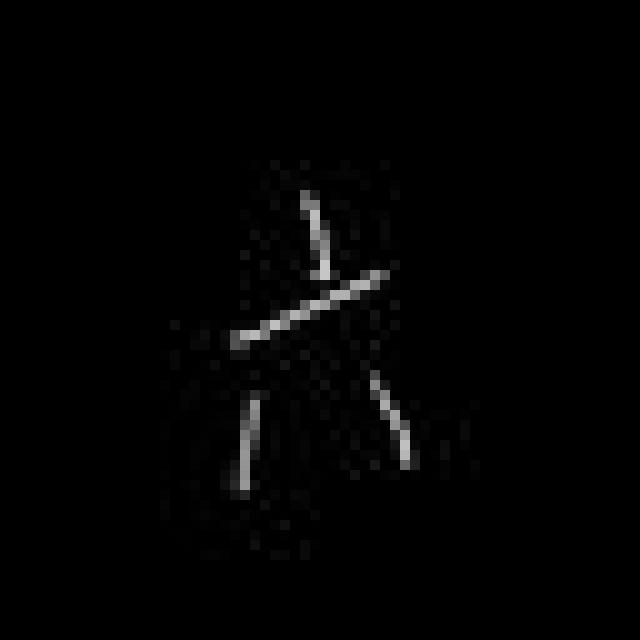6 -six-: (202, 182, 423, 501)
